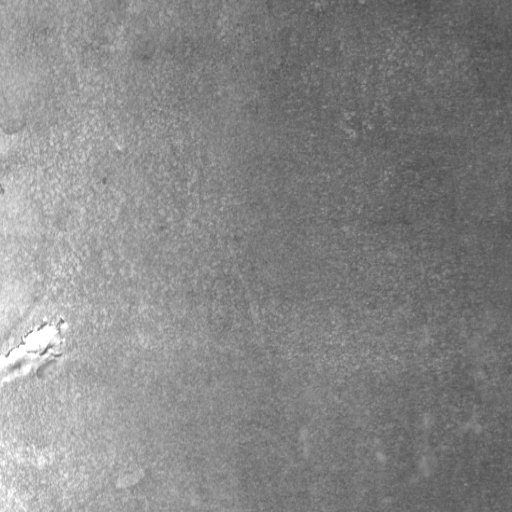aokeng: (1, 314, 67, 381)
